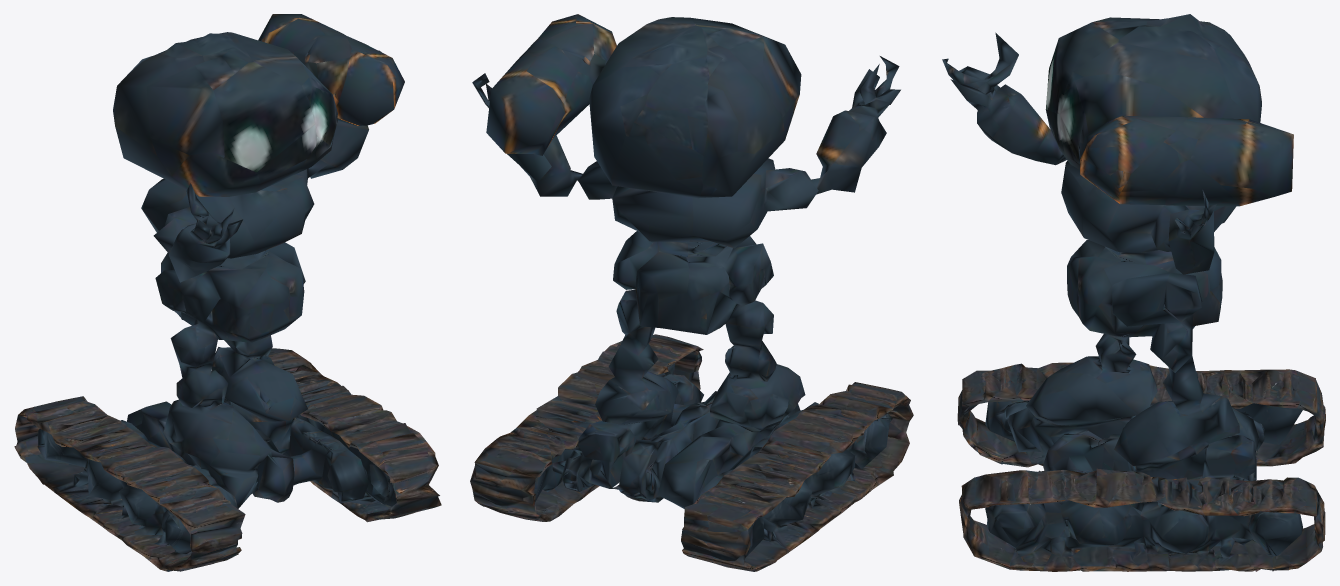
The model's file is battery-robot.glb.
3 views of the same model, side by side, from view 1: azimuth 30°, elevation 25°; view 2: azimuth 150°, elevation 25°; view 3: azimuth 270°, elevation 25° (orthographic). The views are drawn at different scales.
Size of the model in its own units: 1.44 by 1.9 by 1.38.
Materials: 1 (1 with a texture image).
